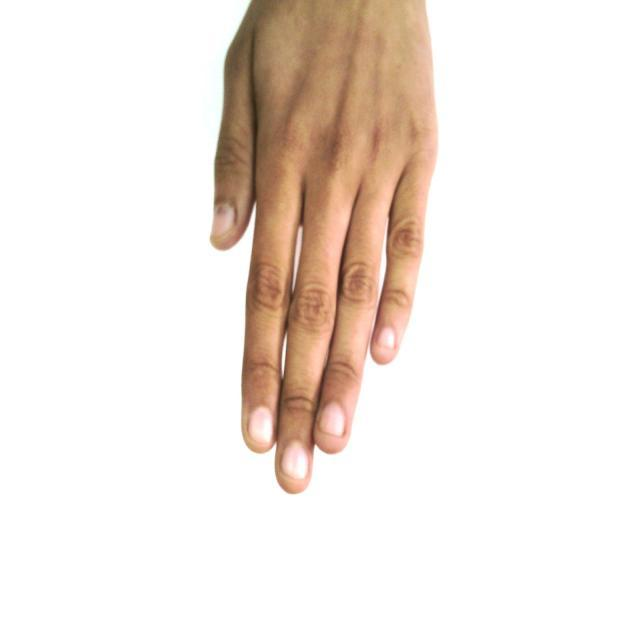Fingernail: (211, 203, 235, 243), (281, 443, 308, 478), (251, 409, 273, 443), (321, 404, 344, 435), (379, 327, 396, 349)
